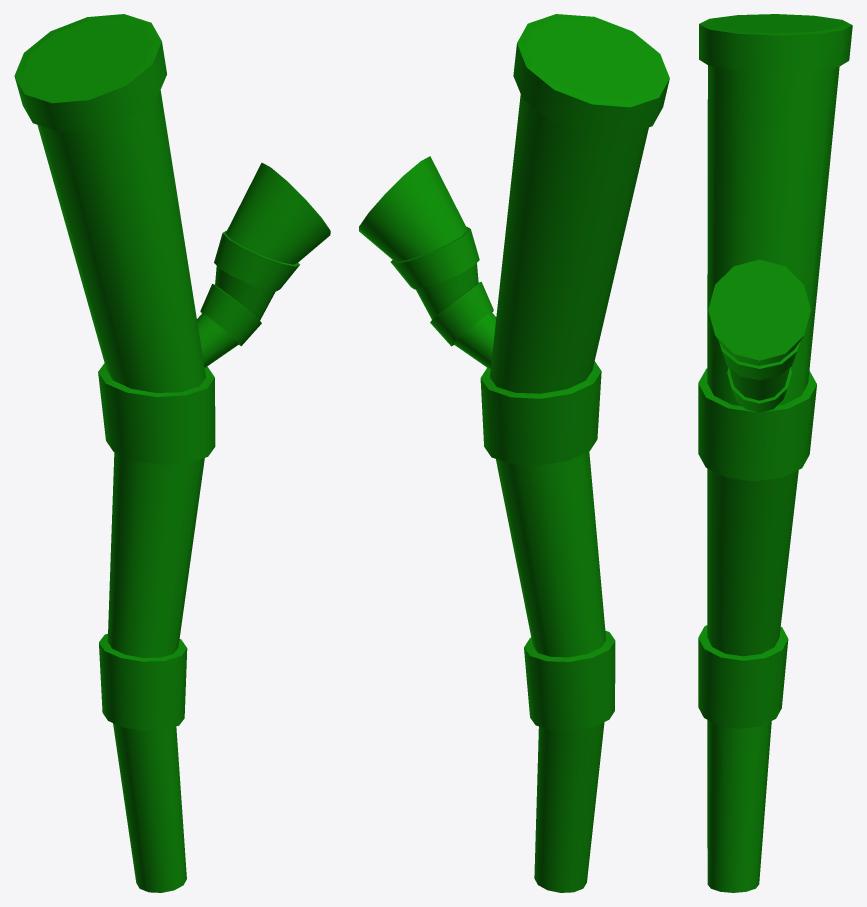
File: SM_Pipe bold.fbx
3 renders of one model, left to right at view 1: azimuth 30°, elevation 25°; view 2: azimuth 150°, elevation 25°; view 3: azimuth 270°, elevation 25°, orthographic. The views are drawn at different scales.
Visible parts, largest first — view 1: Pipe bold; view 2: Pipe bold; view 3: Pipe bold.
Part boxes in pixels (x1,y1,x2,y2): Pipe bold: (14,14,330,892); Pipe bold: (359,14,669,892); Pipe bold: (698,14,852,892).
Size of the model in its own units: 1192 by 3327 by 544.
